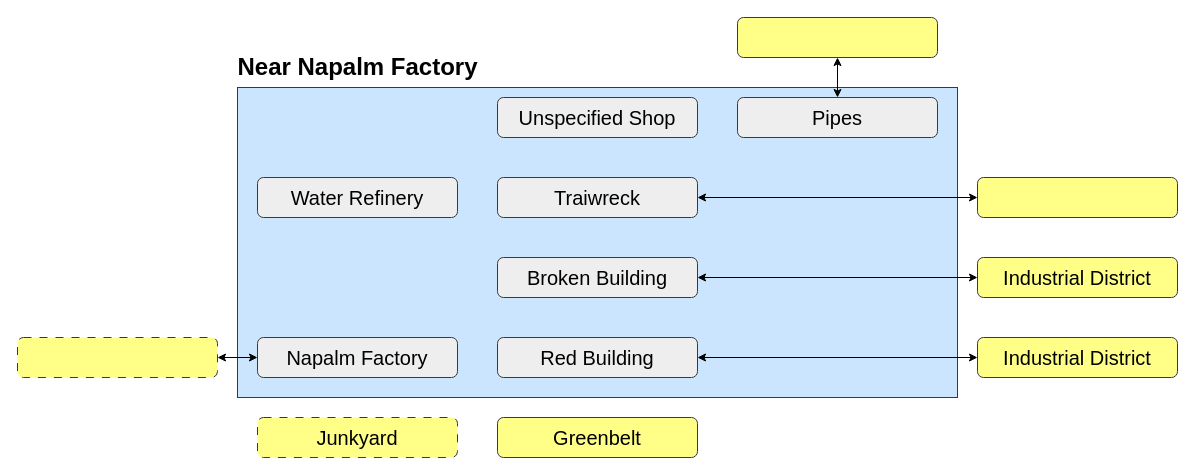
The diagram is 1195 pixels wide and 475 high, and some of its shapes have lost their labels. Here are the shapes that lost their labels. From the top down, the box of each, then its label:
(736, 16, 938, 58): Trainyard
(976, 176, 1178, 218): Clinic
(16, 336, 218, 378): Napalm Factory (4)
